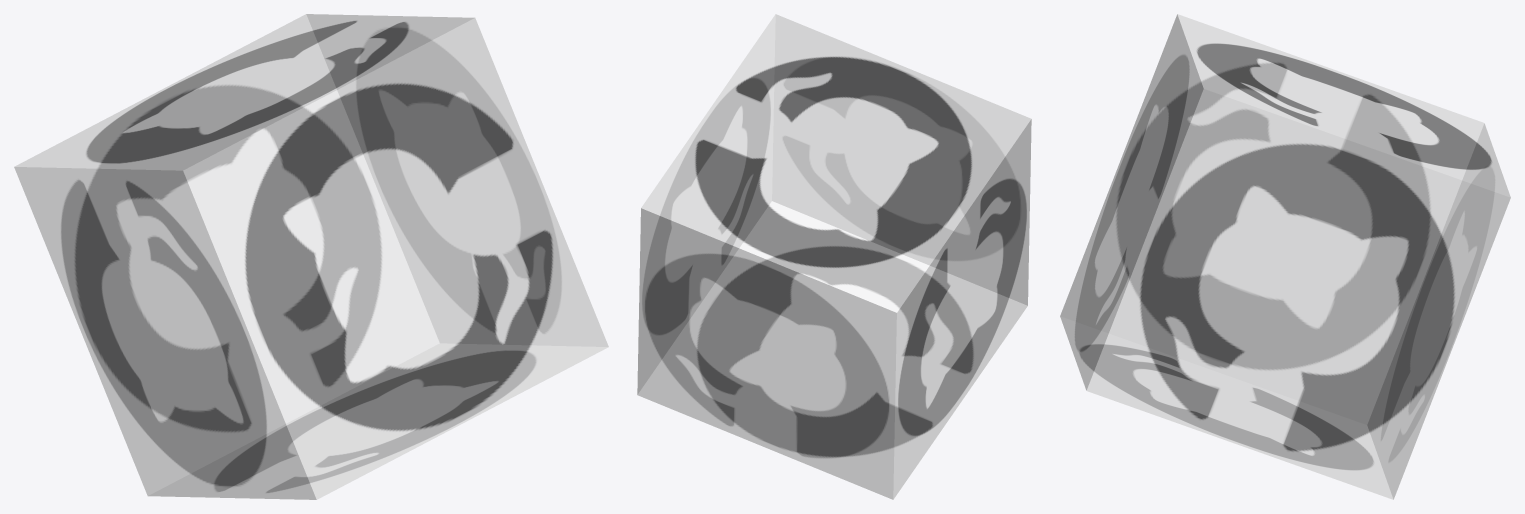
Rendered from git2.glb.
3 renders of one model, left to right at view 1: azimuth 30°, elevation 25°; view 2: azimuth 150°, elevation 25°; view 3: azimuth 270°, elevation 25°, orthographic. The views are drawn at different scales.
Parts seen in each view (by area): view 1: Cube; view 2: Cube; view 3: Cube.
Boxes of the visible parts, x1,y1,x2,y2 form: Cube: (14,14,608,499); Cube: (637,14,1031,499); Cube: (1060,14,1510,499).
Bounding box in the file's own units: 2.39 × 2.96 × 2.73.
Materials: 1 (1 with a texture image).
